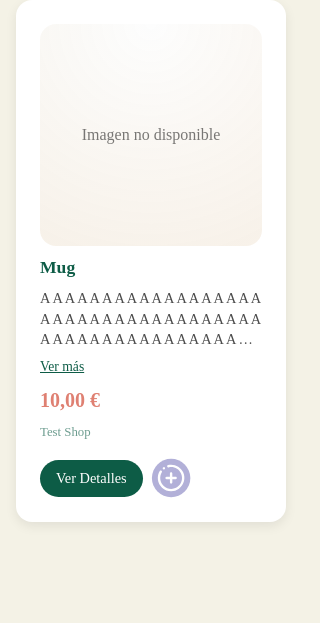
Test: InfiniteProductList › expands a long description with an accessible toggle
The width and height of the screenshot is (320, 623).
Click the button "Ver más". click: (62, 367)
box: [40,357,84,377]
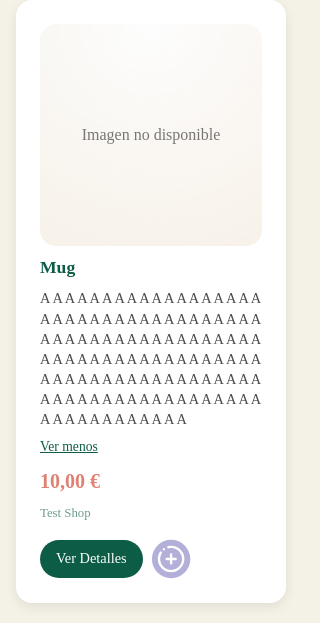
Result: the button "Ver menos" is expanded at [40,438,98,458]
